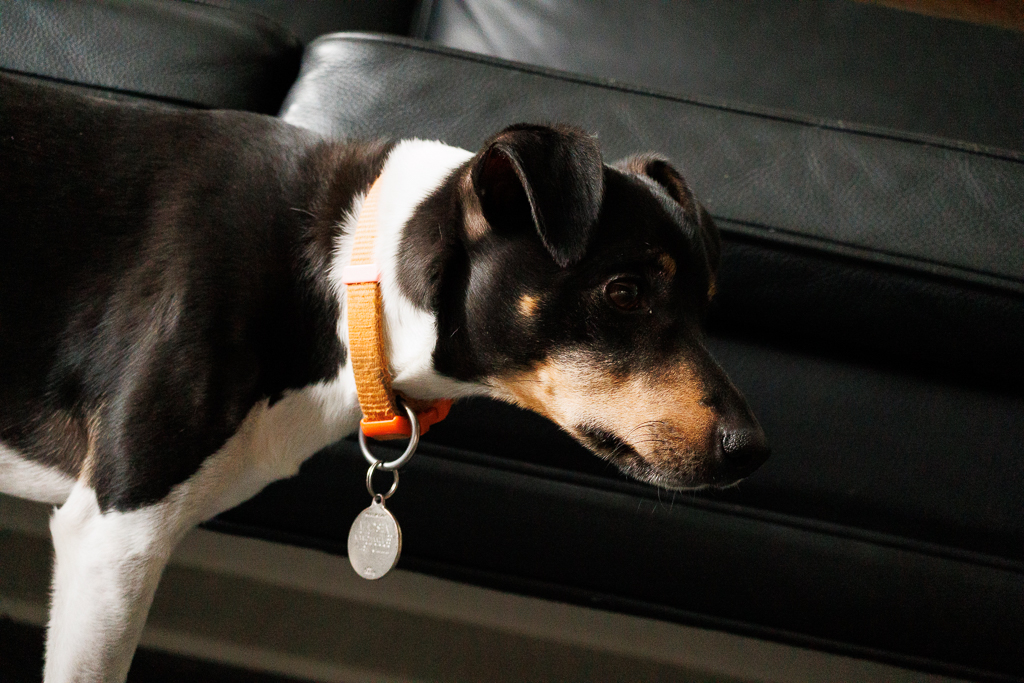Dog: (0, 68, 784, 683)
